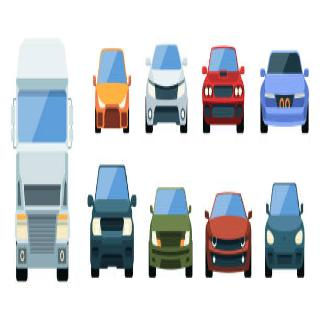Normal_vehicle: (260, 36, 312, 144), (266, 168, 312, 289), (144, 40, 192, 144), (90, 163, 135, 273), (199, 41, 248, 142), (202, 199, 252, 290), (150, 182, 197, 278), (92, 41, 132, 143)
